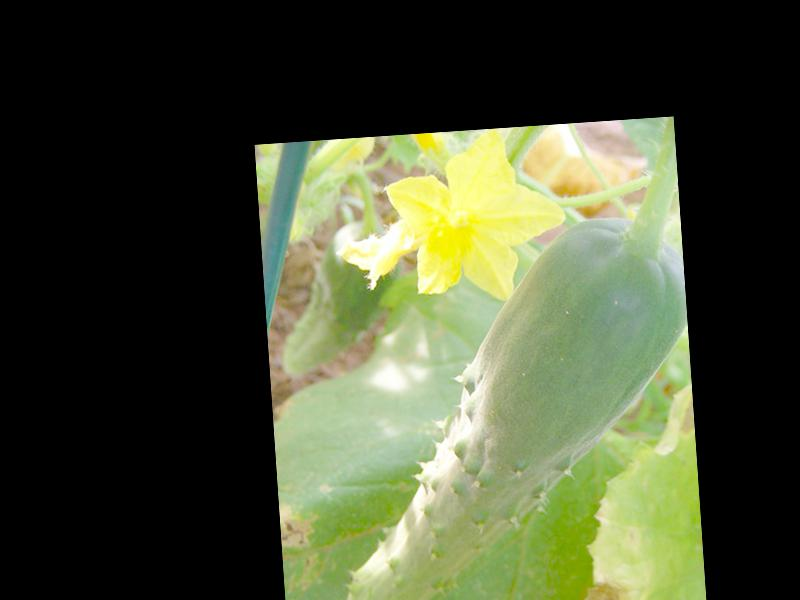Cucumber: (303, 213, 706, 600)
